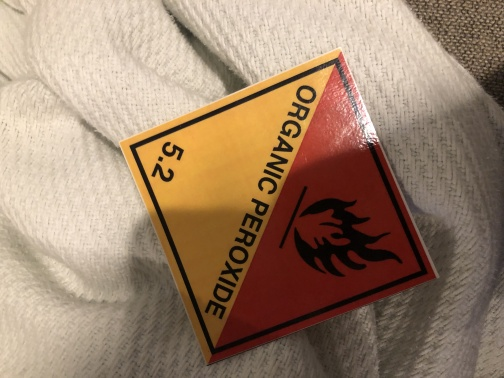OrganicPeroxide: (121, 47, 436, 363)
